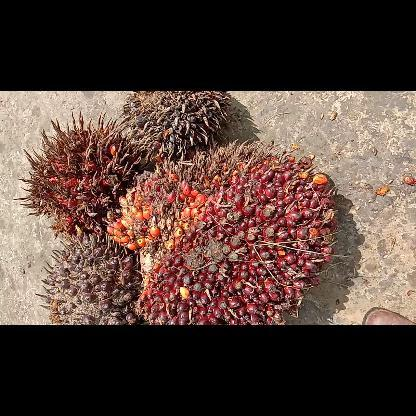Kurang masak: (42, 236, 136, 324)
TBS abnormal: (118, 91, 233, 155)
TBS masak: (106, 139, 338, 324)
Terlalu masak: (19, 112, 137, 236)
